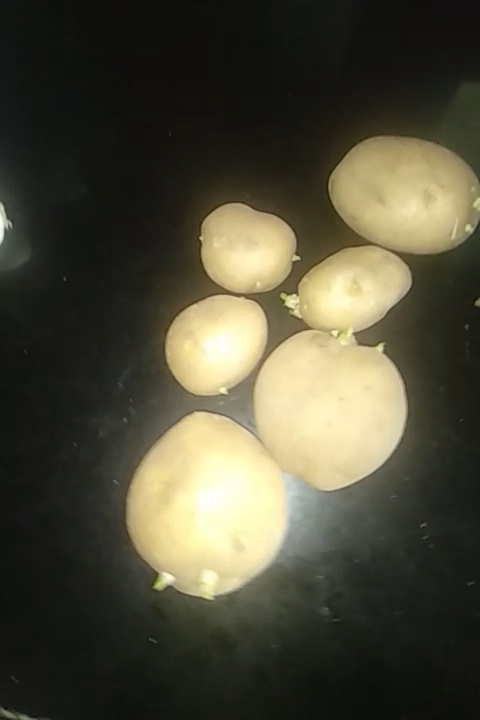potato: (133, 409, 292, 606), (264, 324, 414, 496), (330, 135, 480, 257), (162, 283, 262, 407), (301, 245, 414, 342), (201, 203, 293, 297)
